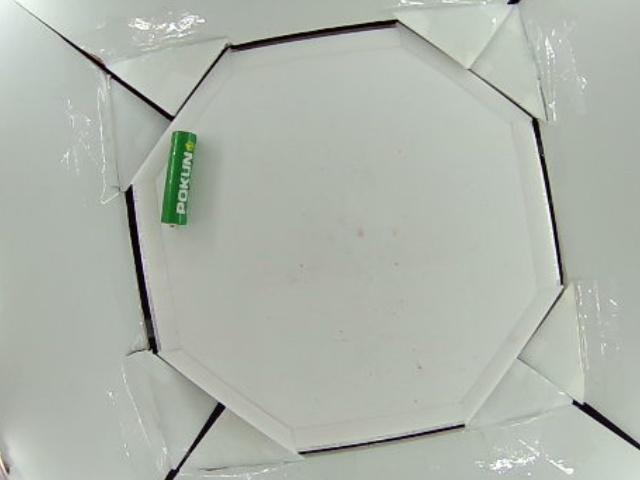Battery: (160, 129, 198, 230)
